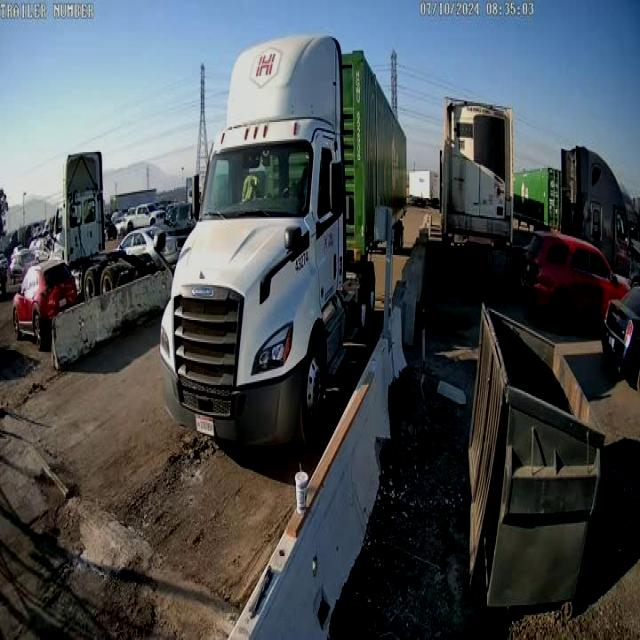CONTAINER: (330, 46, 411, 254)
